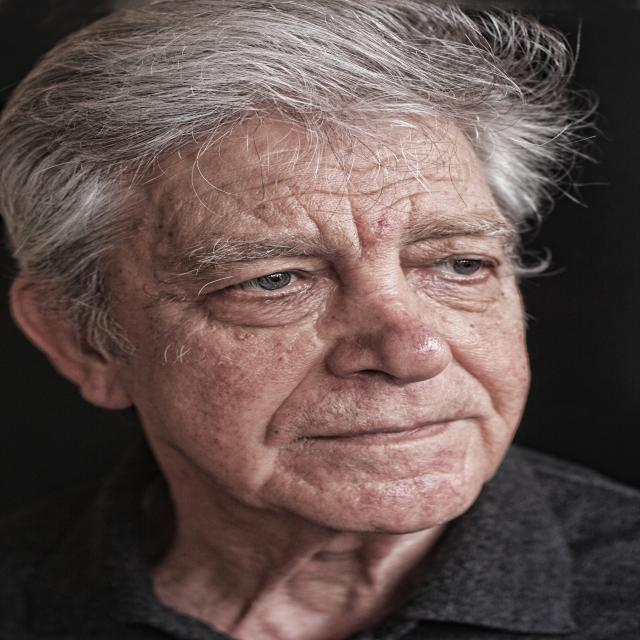front: (136, 187, 548, 483)
